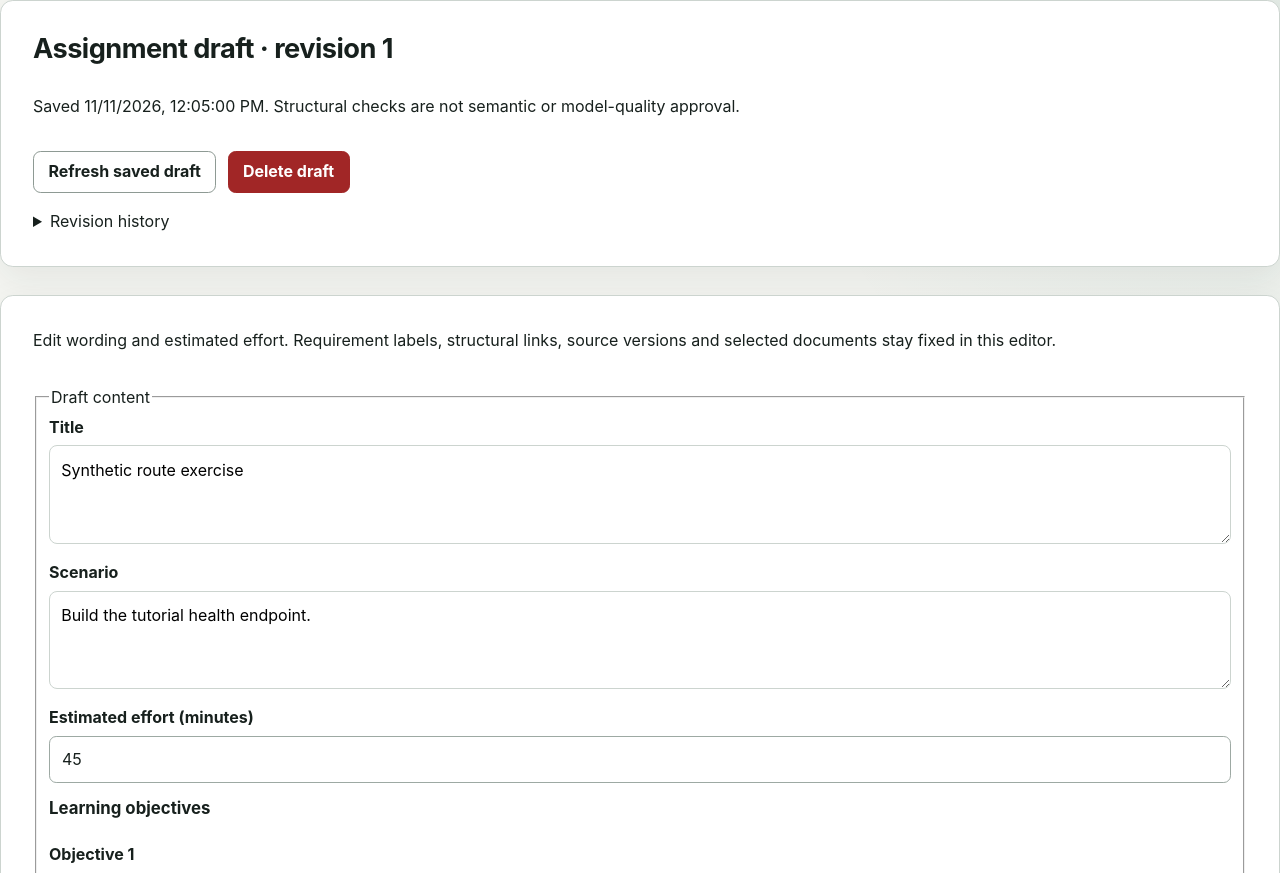
Test case: draft review and conflict-safe editing › saves a new revision with unchanged structural IDs and selected documents
Replace the text in the text box labelled "Title" with "Edited route exercise" at (640, 495), box [49,446,1231,544]
(page scrolled)
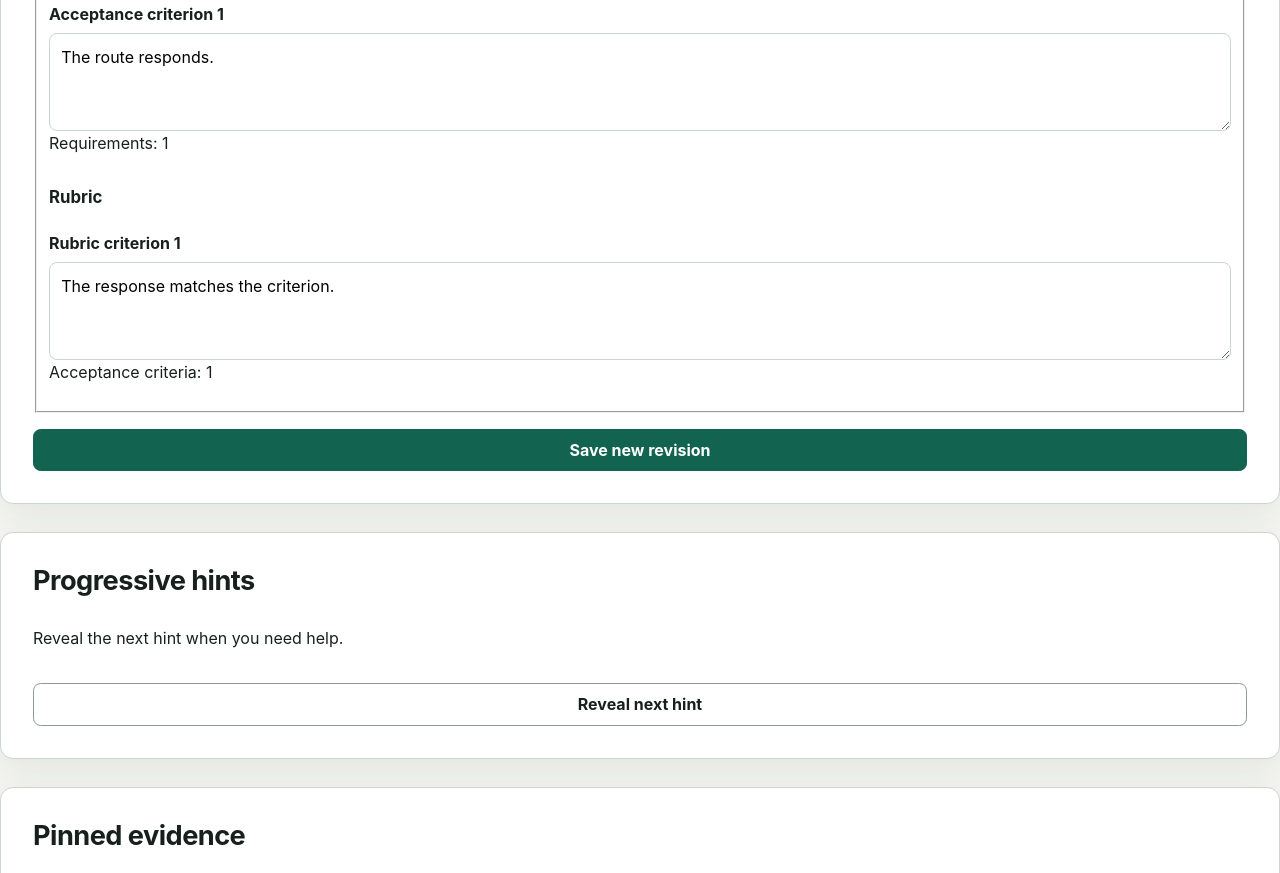
Click the button "Save new revision" at (640, 450), box [33,429,1247,472]
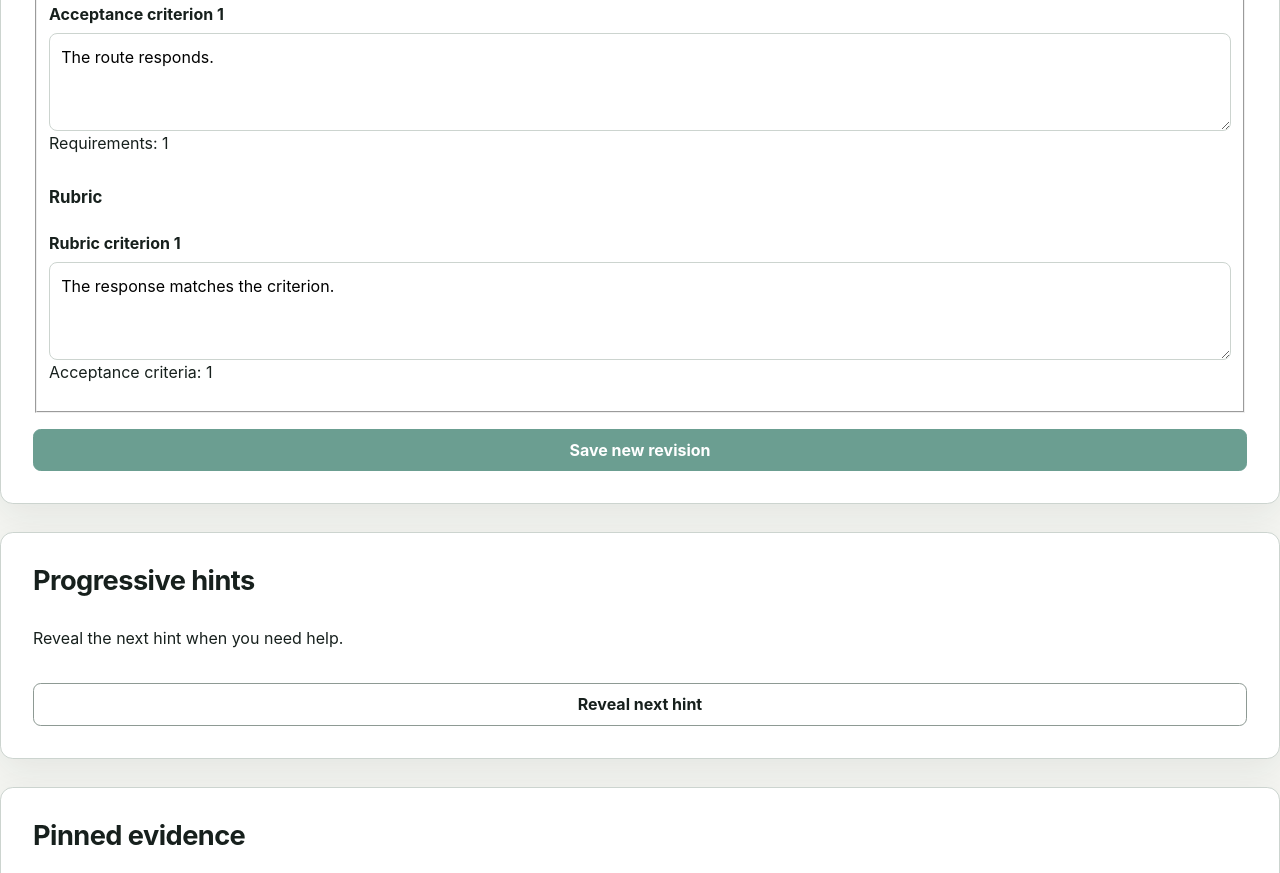
Check: the button "Save new revision" is disabled, box [33,429,1247,472]
